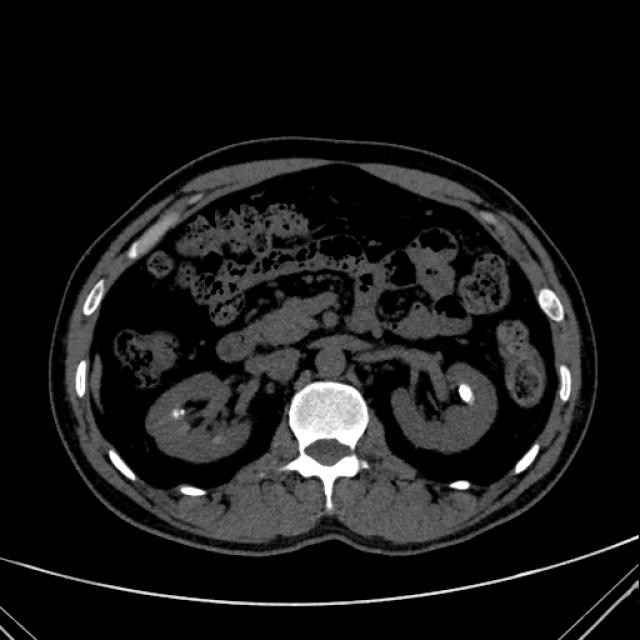kidneystone: (460, 384, 472, 404), (171, 408, 185, 418)
